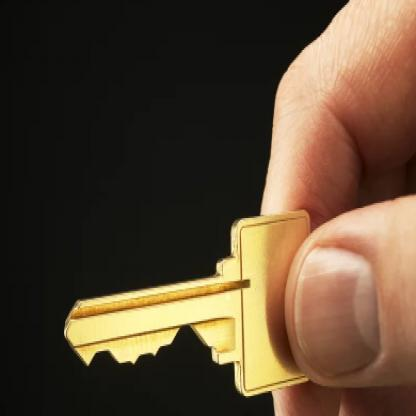keys: (63, 204, 325, 398)
